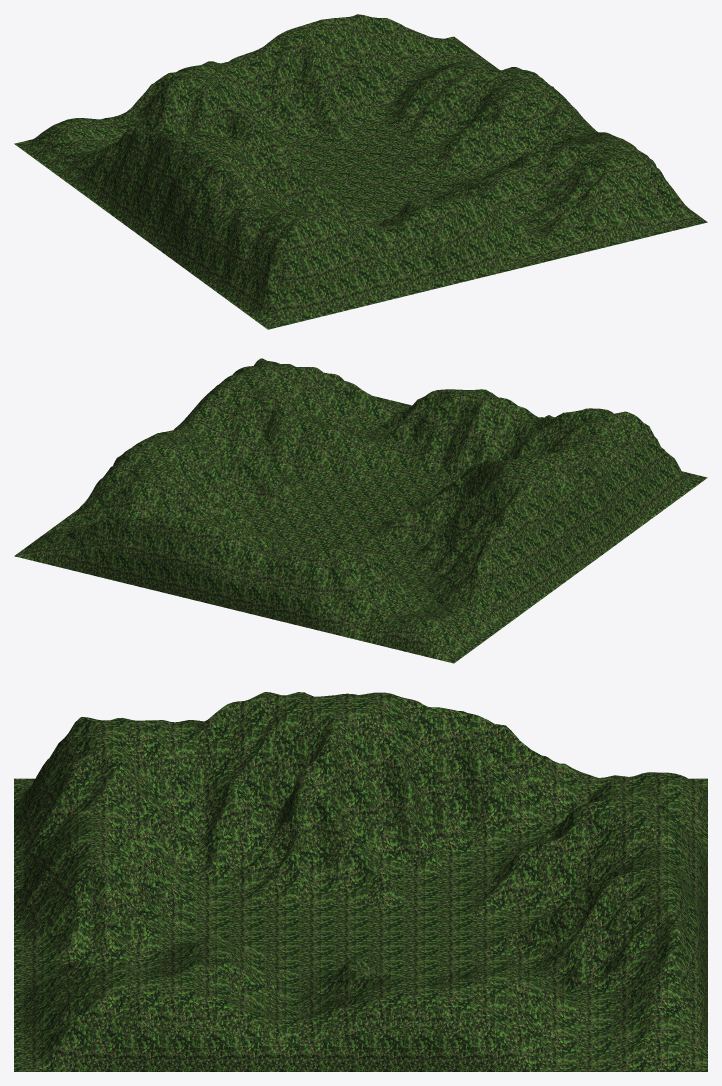
File: TerrainLow.FBX
3 views of the same model, one above another, from view 1: azimuth 30°, elevation 25°; view 2: azimuth 150°, elevation 25°; view 3: azimuth 270°, elevation 25° (orthographic). The views are drawn at different scales.
Visible parts, largest first — view 1: TerrainLow; view 2: TerrainLow; view 3: TerrainLow.
Part boxes in pixels (x1,y1,x2,y2): TerrainLow: [14, 14, 707, 329]; TerrainLow: [14, 358, 707, 663]; TerrainLow: [14, 692, 707, 1071].
Bounding box in the file's own units: 10000 × 1840 × 10000.
